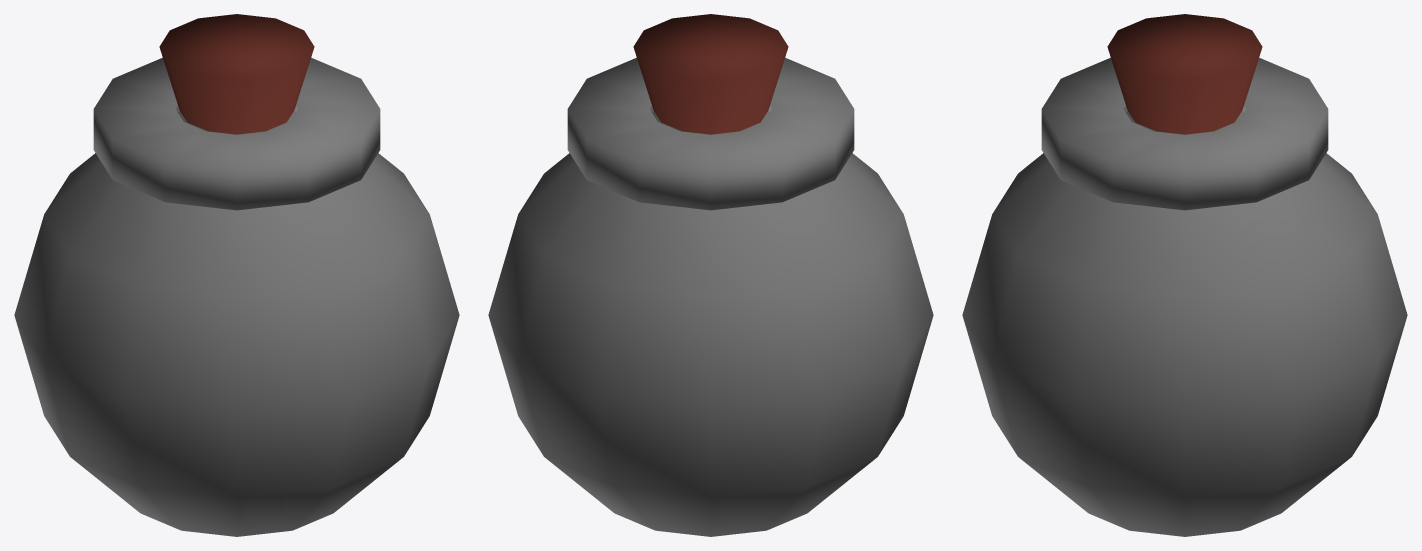
The model's file is thuoc dai.fbx.
The picture shows the model from 3 angles, left to right: view 1: azimuth 30°, elevation 25°; view 2: azimuth 150°, elevation 25°; view 3: azimuth 270°, elevation 25°; orthographic projection.
Visible parts, largest first — view 1: thuoc dai; view 2: thuoc dai; view 3: thuoc dai.
Boxes of the visible parts, <box> form: thuoc dai: <box>14,14,459,536</box>; thuoc dai: <box>488,14,933,536</box>; thuoc dai: <box>962,14,1407,536</box>.
Size of the model in its own units: 58.76 by 68.46 by 58.76.
